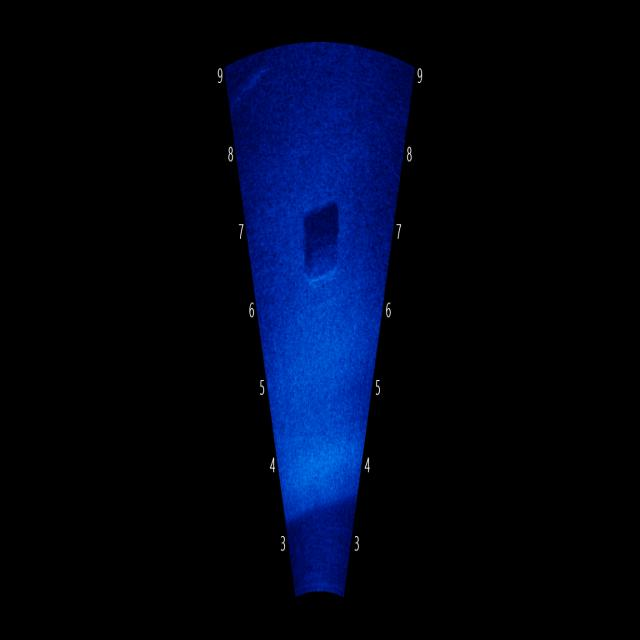square: (301, 189, 348, 290)
